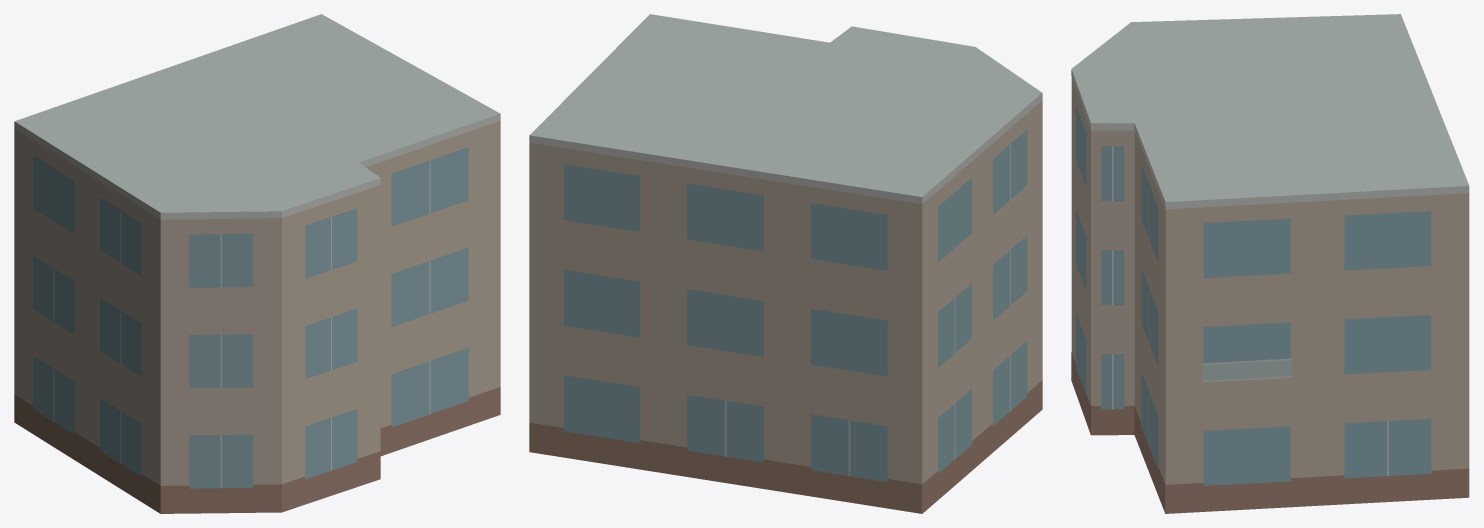
The model's file is survey-upis-32975861.glb.
The picture shows the model from 3 angles, left to right: view 1: azimuth 30°, elevation 25°; view 2: azimuth 150°, elevation 25°; view 3: azimuth 270°, elevation 25°; orthographic projection. The views are drawn at different scales.
Parts seen in each view (by area): view 1: survey-upis-32975861.tmp; view 2: survey-upis-32975861.tmp; view 3: survey-upis-32975861.tmp.
Boxes of the visible parts, x1,y1,x2,y2 form: survey-upis-32975861.tmp: (14, 14, 500, 513); survey-upis-32975861.tmp: (529, 14, 1042, 513); survey-upis-32975861.tmp: (1071, 14, 1469, 513).
Size of the model in its own units: 13.73 by 10.6 by 12.28.
